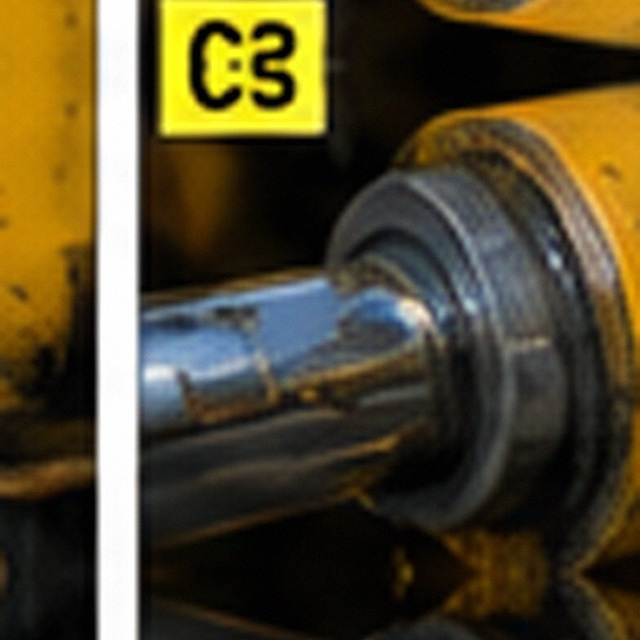hydraulic_oil_leak: (176, 199, 449, 465)
